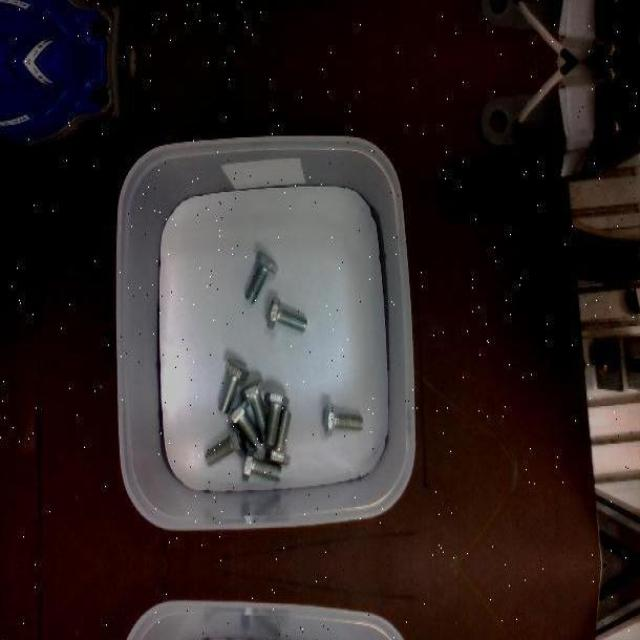screw: (205, 422, 248, 465), (246, 249, 279, 303), (219, 357, 250, 413), (266, 408, 292, 465), (268, 296, 308, 332), (242, 445, 282, 481), (264, 391, 290, 446), (324, 401, 363, 436)
